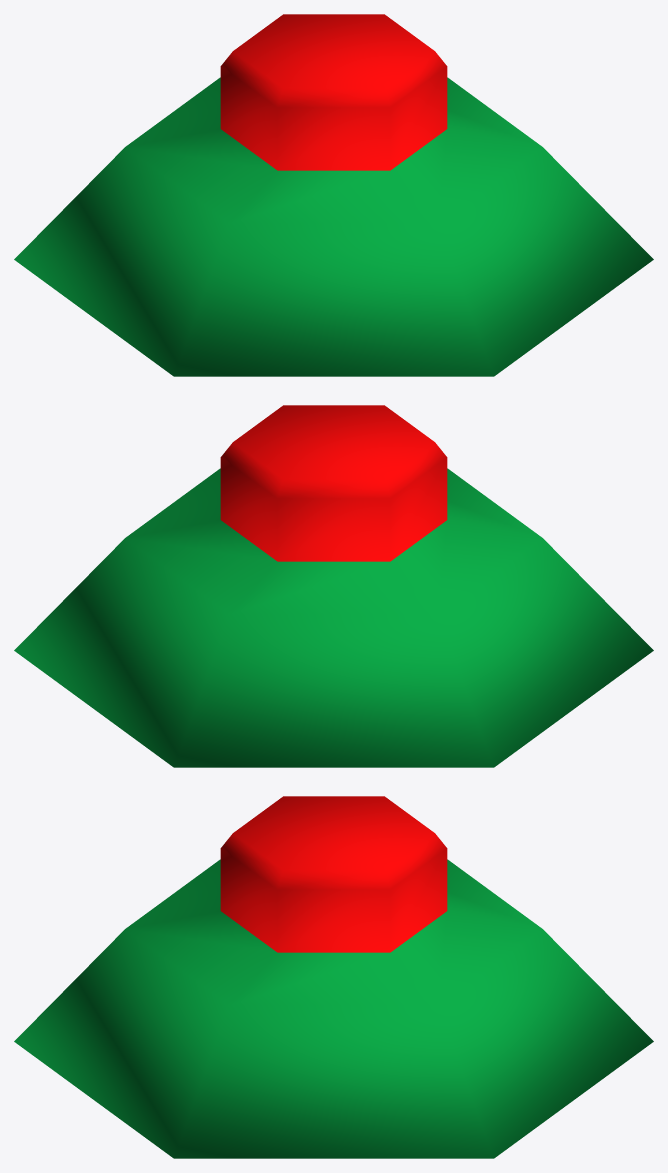
File: explosive.gltf
3 views of the same model, one above another, from view 1: azimuth 30°, elevation 25°; view 2: azimuth 150°, elevation 25°; view 3: azimuth 270°, elevation 25° (orthographic).
Parts seen in each view (by area): view 1: LandMine_glb; view 2: LandMine_glb; view 3: LandMine_glb.
Part boxes in pixels (x1,y1,x2,y2): LandMine_glb: [14, 14, 653, 376]; LandMine_glb: [14, 405, 653, 767]; LandMine_glb: [14, 796, 653, 1158].
Size of the model in its own units: 0.1104 by 0.0458 by 0.1274.
1 material, 1 textured.
